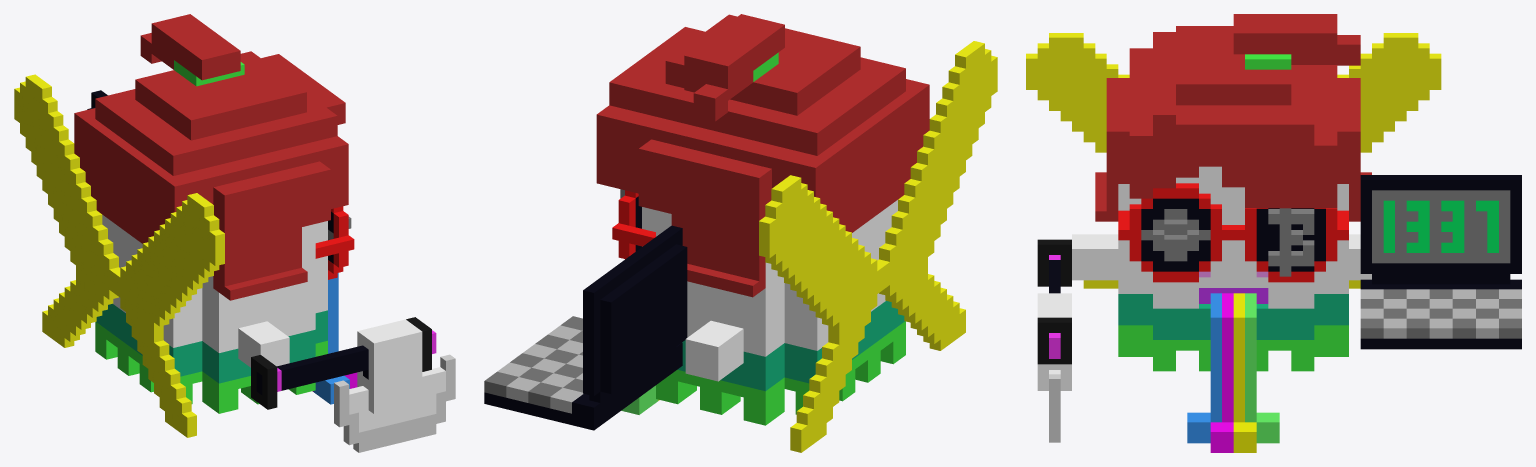
The model's file is Gotchi 2.vox.obj.
3 renders of one model, left to right at view 1: azimuth 30°, elevation 25°; view 2: azimuth 150°, elevation 25°; view 3: azimuth 270°, elevation 25°, orthographic. The views are drawn at different scales.
Bounding box in the file's own units: 2.6 × 3.5 × 4.3.
Materials: 1 (1 with a texture image).
